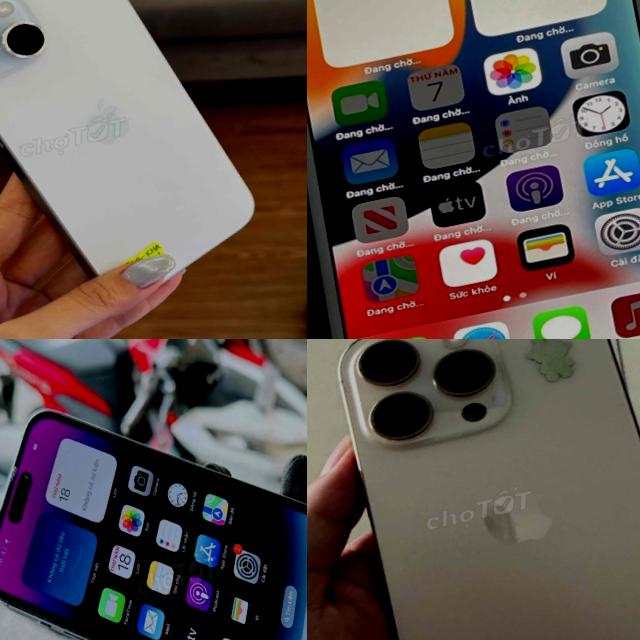gen_14: (0, 343, 307, 640)
gen_15: (0, 0, 283, 323)
gen_16: (337, 339, 640, 640)
gen_7_8: (307, 0, 640, 339)
physical_damage: (84, 520, 165, 574), (0, 451, 45, 498)
